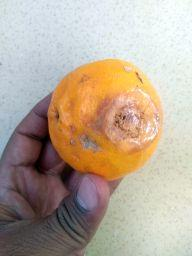Unripe: (49, 58, 165, 177)
